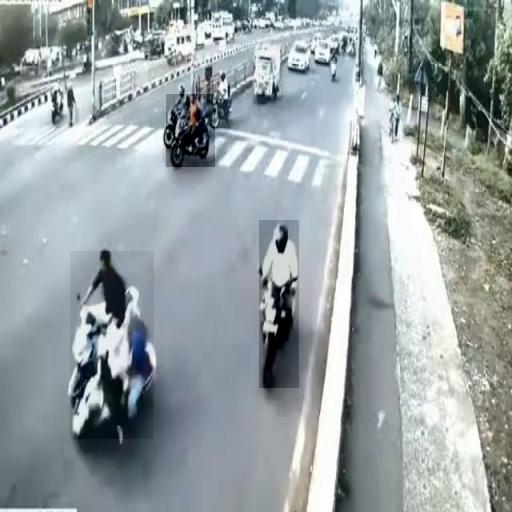小汽车: (254, 40, 283, 101)
自行车: (259, 220, 299, 388), (166, 94, 215, 167)
自行车撞自行车: (70, 252, 154, 440)
